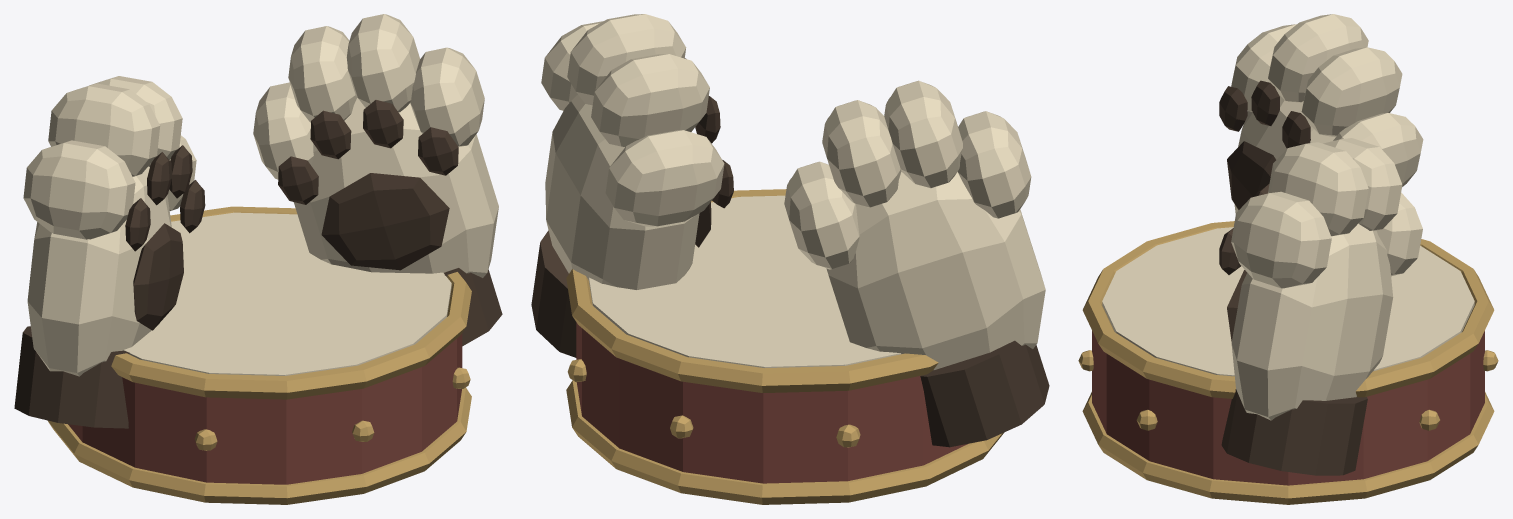
Rendered from 04_Applause_Paws.fbx.
3 views of the same model, side by side, from view 1: azimuth 30°, elevation 25°; view 2: azimuth 150°, elevation 25°; view 3: azimuth 270°, elevation 25° (orthographic). The views are drawn at different scales.
Parts seen in each view (by area): view 1: 04_Applause_Paws__Body, 04_Applause_Paws__Paw_Right, 04_Applause_Paws__Paw_Left; view 2: 04_Applause_Paws__Body, 04_Applause_Paws__Paw_Left, 04_Applause_Paws__Paw_Right; view 3: 04_Applause_Paws__Body, 04_Applause_Paws__Paw_Right, 04_Applause_Paws__Paw_Left.
Boxes of the visible parts, x1=… form: 04_Applause_Paws__Body: x1=47, y1=206, x2=471, y2=504; 04_Applause_Paws__Paw_Right: x1=253, y1=14, x2=502, y2=346; 04_Applause_Paws__Paw_Left: x1=14, y1=76, x2=205, y2=428; 04_Applause_Paws__Body: x1=566, y1=189, x2=1003, y2=504; 04_Applause_Paws__Paw_Left: x1=784, y1=80, x2=1049, y2=447; 04_Applause_Paws__Paw_Right: x1=531, y1=14, x2=733, y2=357; 04_Applause_Paws__Body: x1=1078, y1=221, x2=1498, y2=504; 04_Applause_Paws__Paw_Right: x1=1219, y1=138, x2=1422, y2=475; 04_Applause_Paws__Paw_Left: x1=1219, y1=14, x2=1423, y2=214.
Bounding box in the file's own units: 252 × 180 × 203.
2 materials, 2 textured.
